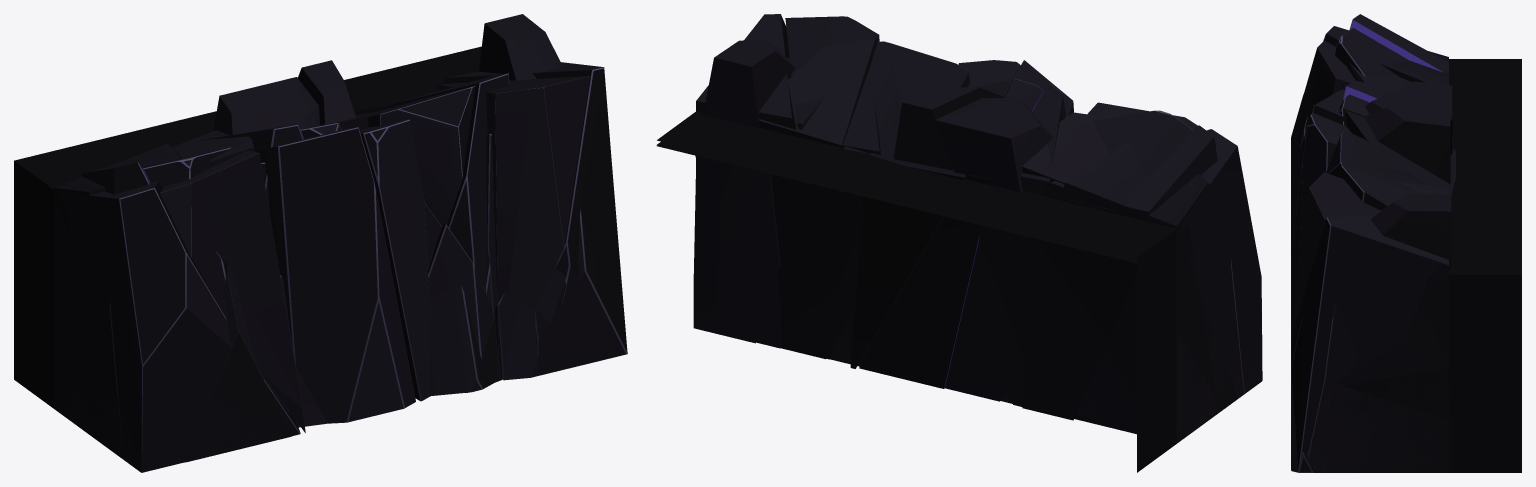
The model's file is cliff-kit.glb.
3 renders of one model, left to right at view 1: azimuth 30°, elevation 25°; view 2: azimuth 150°, elevation 25°; view 3: azimuth 270°, elevation 25°, orthographic. The views are drawn at different scales.
Parts seen in each view (by area): view 1: void_wall_1, void_wall_3, void_wall_0, void_wall_2; view 2: void_wall_1, void_wall_2, void_wall_0, void_wall_3; view 3: void_wall_1, void_wall_3, void_wall_0, void_wall_2.
Part boxes in pixels (bbox=[...]): void_wall_1: bbox=[14, 46, 627, 472]; void_wall_3: bbox=[14, 62, 627, 448]; void_wall_0: bbox=[14, 60, 566, 459]; void_wall_2: bbox=[14, 14, 562, 462]; void_wall_1: bbox=[657, 38, 1262, 472]; void_wall_2: bbox=[657, 39, 1217, 470]; void_wall_0: bbox=[657, 72, 1244, 472]; void_wall_3: bbox=[657, 14, 1237, 469]; void_wall_1: bbox=[1291, 26, 1521, 472]; void_wall_3: bbox=[1291, 51, 1521, 472]; void_wall_0: bbox=[1335, 14, 1521, 472]; void_wall_2: bbox=[1291, 81, 1521, 472].
Size of the model in its own units: 2.1 by 1.15 by 0.95.
